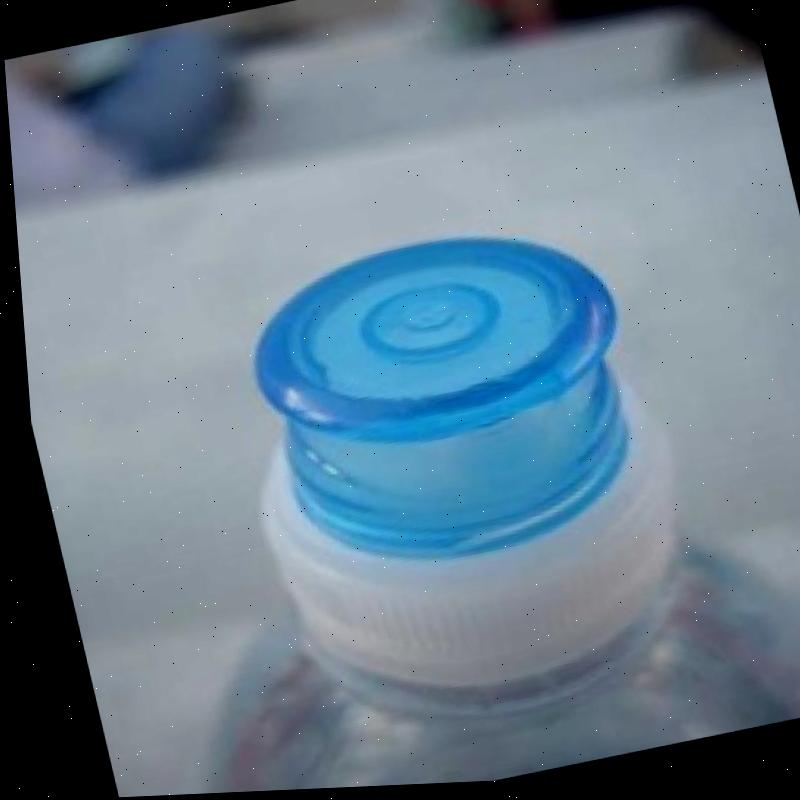botella: (74, 180, 800, 798)
